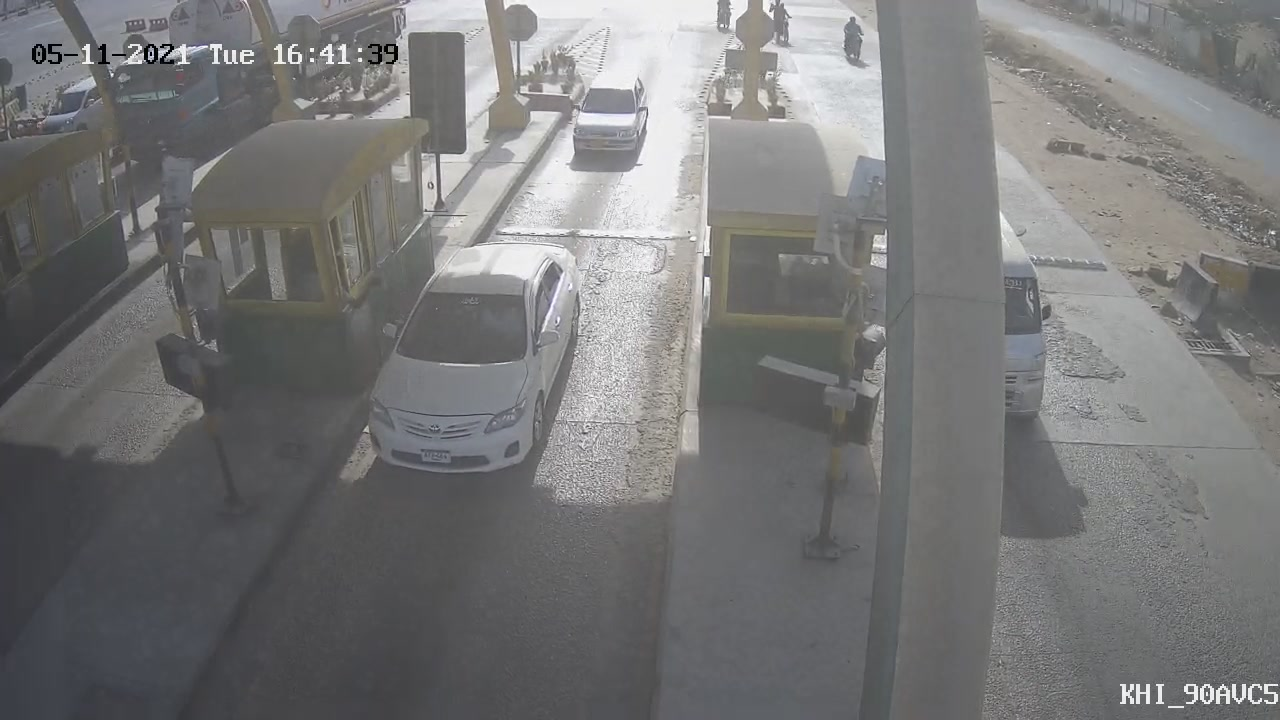F1: (351, 226, 599, 498), (556, 61, 661, 181)
